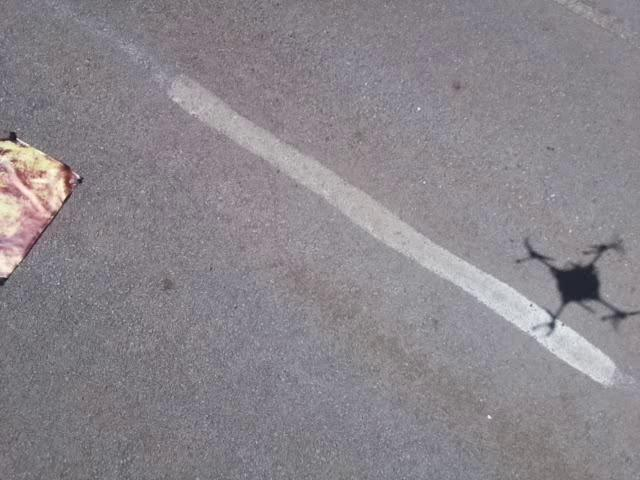fire-poster: (0, 125, 84, 290)
